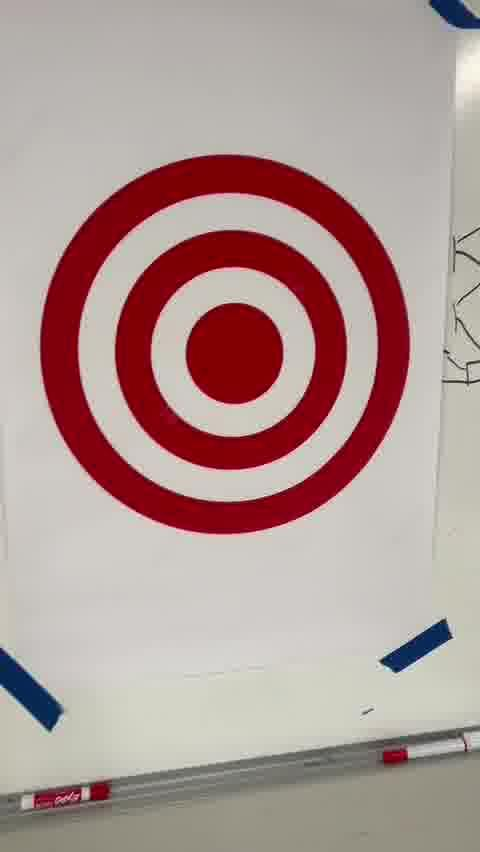target_red: (39, 153, 411, 534)
